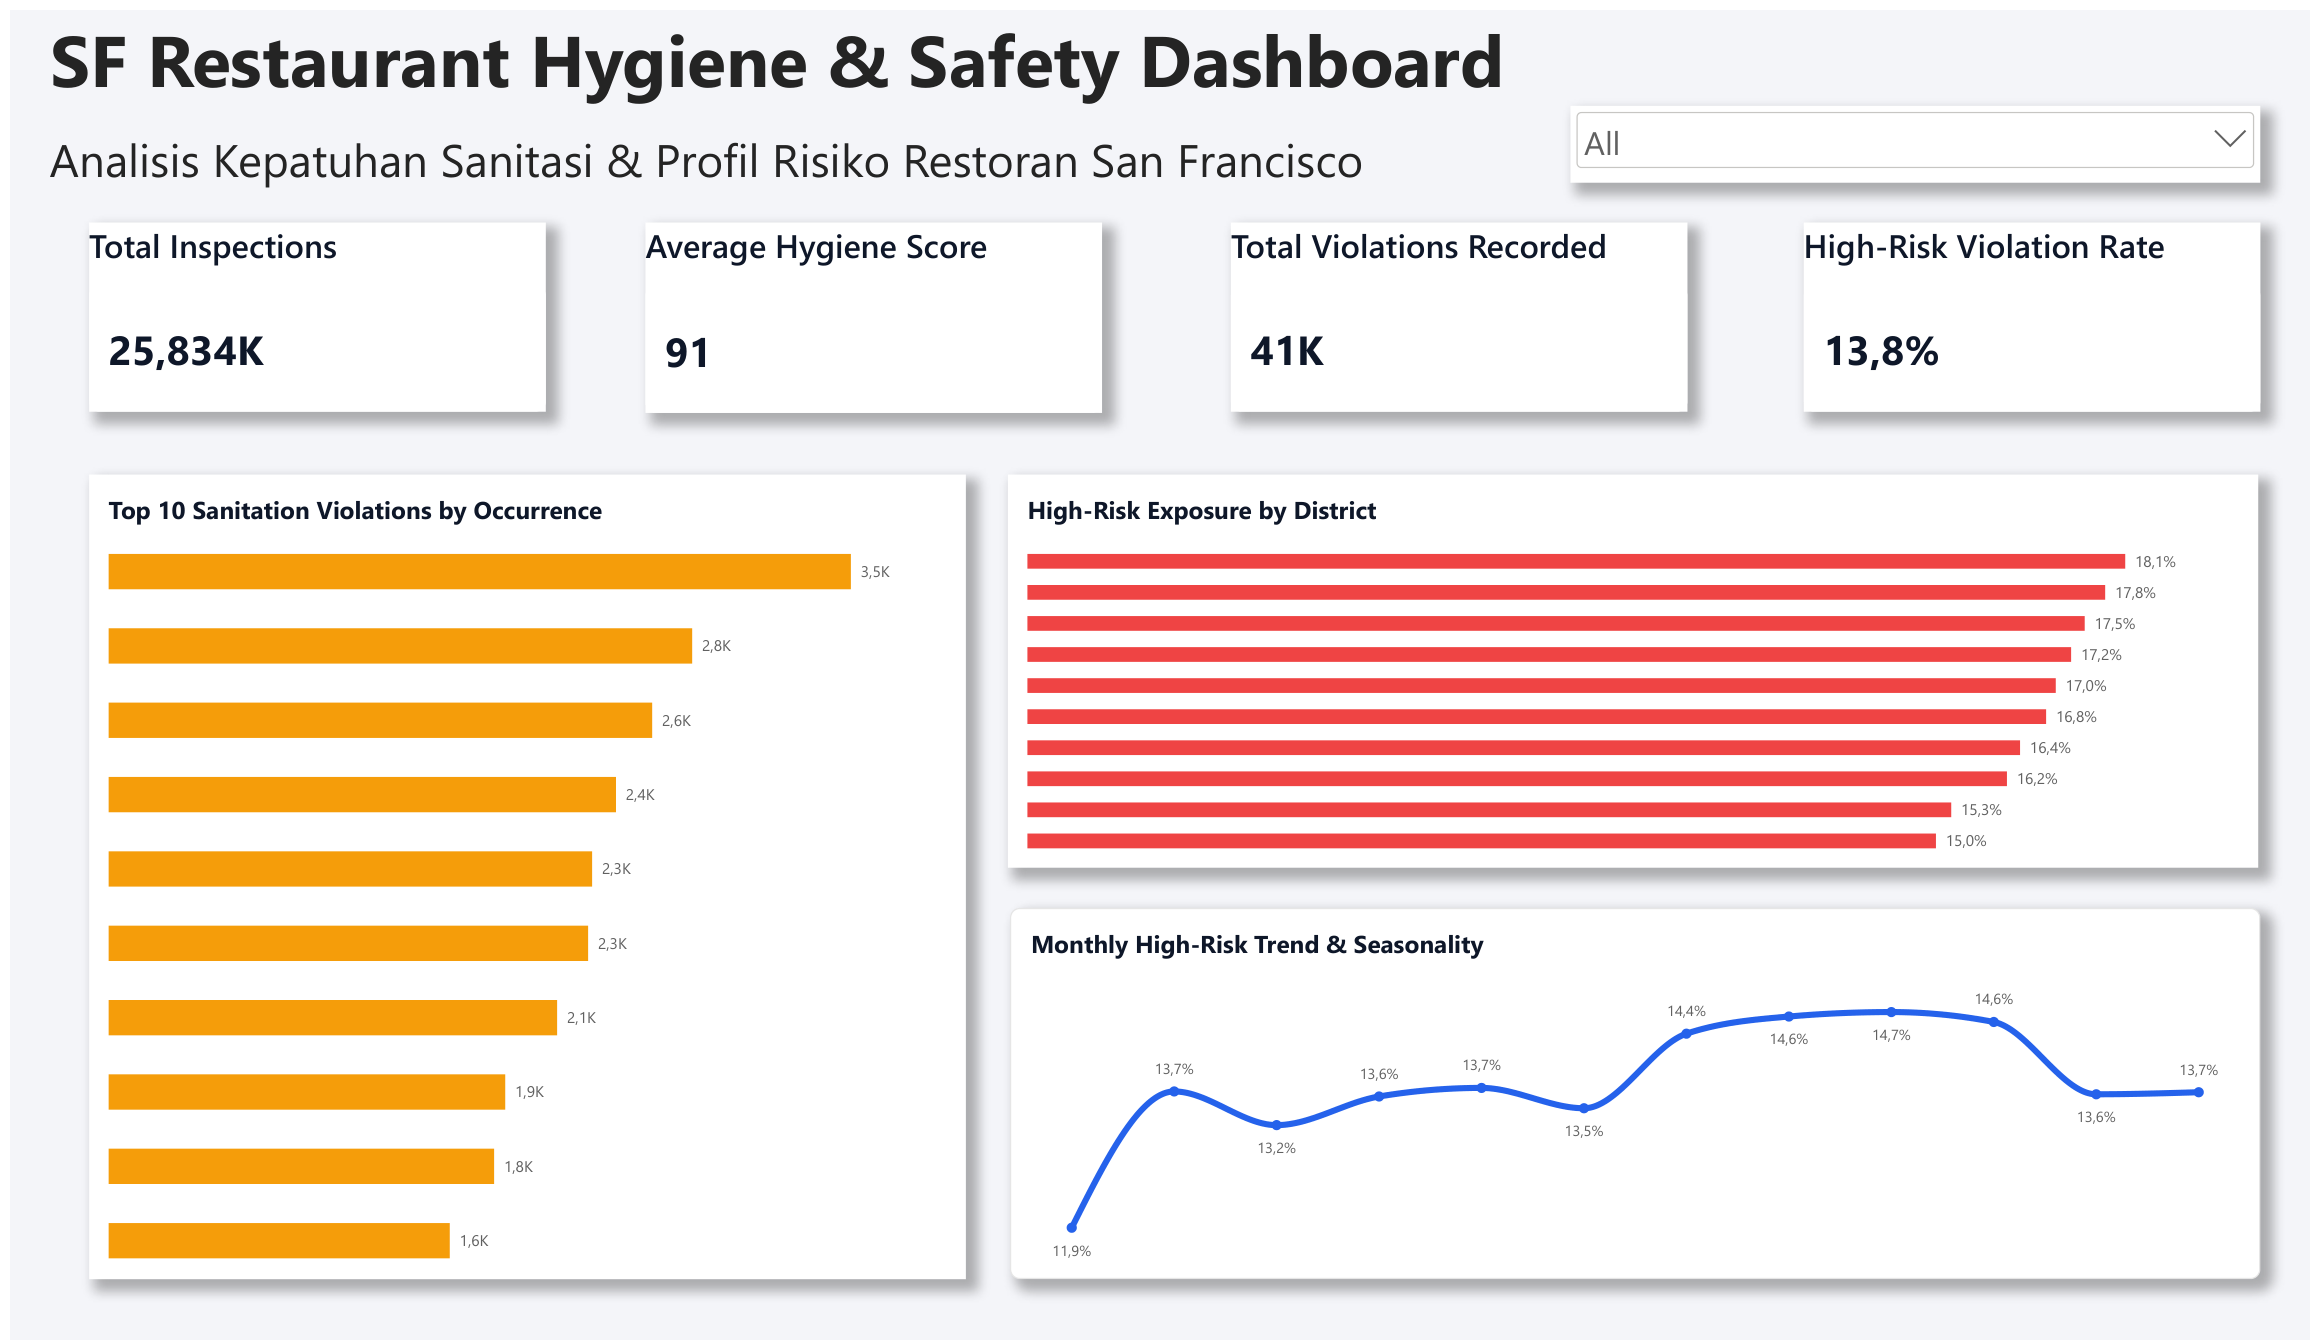

Layout of this report page (visuals, bound fields, positions):
{"tool":"powerbi","page":{"name":"Page 1","canvas":[1920,1080],"ordinal":0},"visuals":[{"type":"textbox","box":[31.6,0,1215.7,155.7],"z":0},{"type":"cardVisual","title":"Total Inspections","fields":{"Data":["Count(sf_inspections_summary.inspection_id)"]},"box":[64.8,174.1,374,155],"z":1000},{"type":"cardVisual","title":"Average Hygiene Score","fields":{"Data":["Avg(sf_inspections_summary.inspection_score)"]},"box":[520.4,174.1,374.4,155.8],"z":2000},{"type":"cardVisual","title":"Total Violations Recorded","fields":{"Data":["Sum(sf_inspections_summary.total_violations)"]},"box":[1000,173.3,374,155],"z":3000},{"type":"cardVisual","title":"High-Risk Violation Rate","fields":{"Data":["_Measure.% High Risk Rate"]},"box":[1468.5,174.1,374,155],"z":4000},{"type":"slicer","title":"Select Inspection Period","fields":{"Values":["sf_inspections_summary.inspection_year_month"]},"box":[1278.5,78.5,564.6,63.1],"z":5000},{"type":"clusteredBarChart","title":"Top 10 Sanitation Violations by Occurrence","fields":{"Category":["sf_restaurant_inspections_cleaned.violation_description"],"Y":["CountNonNull(sf_restaurant_inspections_cleaned.violation_id)"]},"box":[64.3,380.4,717.9,658.9],"z":6000},{"type":"clusteredBarChart","title":"High-Risk Exposure by District","fields":{"Category":["sf_inspections_summary.neighborhood"],"Y":["_Measure.% High Risk Rate"]},"box":[817.9,380.4,1024.1,322.2],"z":7000},{"type":"lineChart","title":"Monthly High-Risk Trend & Seasonality","fields":{"Category":["sf_inspections_summary.inspection_date.Variation.Date Hierarchy.Month"],"Y":["_Measure.% High Risk Rate"]},"box":[818.5,735.2,1024.1,303.7],"z":8000}]}

Visuals, with their boxes on the page's 1920x1080 design canvas (x1, y1, x2, y2). These are canvas units, not pixel positions in the 2310x1340 screenshot, which may show the page scaled, cropped or inside an application window:
textbox: x1=32 y1=0 x2=1247 y2=156
"Total Inspections" cardVisual: x1=65 y1=174 x2=439 y2=329
"Average Hygiene Score" cardVisual: x1=520 y1=174 x2=895 y2=330
"Total Violations Recorded" cardVisual: x1=1000 y1=173 x2=1374 y2=328
"High-Risk Violation Rate" cardVisual: x1=1468 y1=174 x2=1842 y2=329
"Select Inspection Period" slicer: x1=1278 y1=78 x2=1843 y2=142
"Top 10 Sanitation Violations by Occurrence" clusteredBarChart: x1=64 y1=380 x2=782 y2=1039
"High-Risk Exposure by District" clusteredBarChart: x1=818 y1=380 x2=1842 y2=703
"Monthly High-Risk Trend & Seasonality" lineChart: x1=818 y1=735 x2=1843 y2=1039
